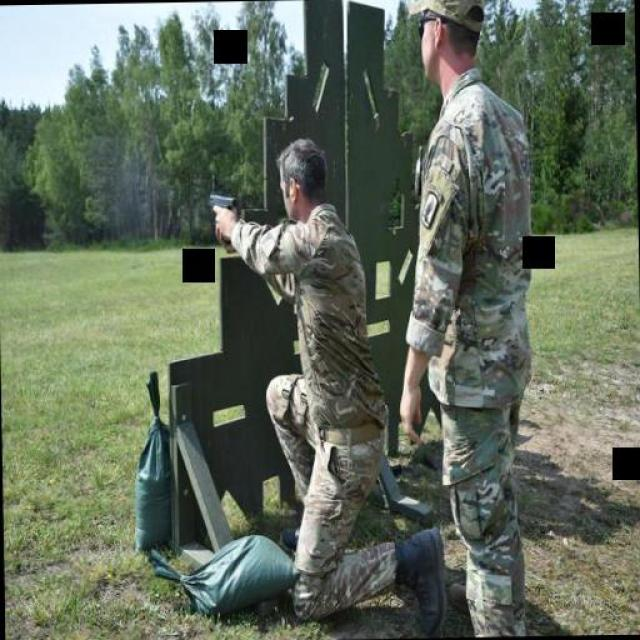gun: (205, 186, 236, 229)
